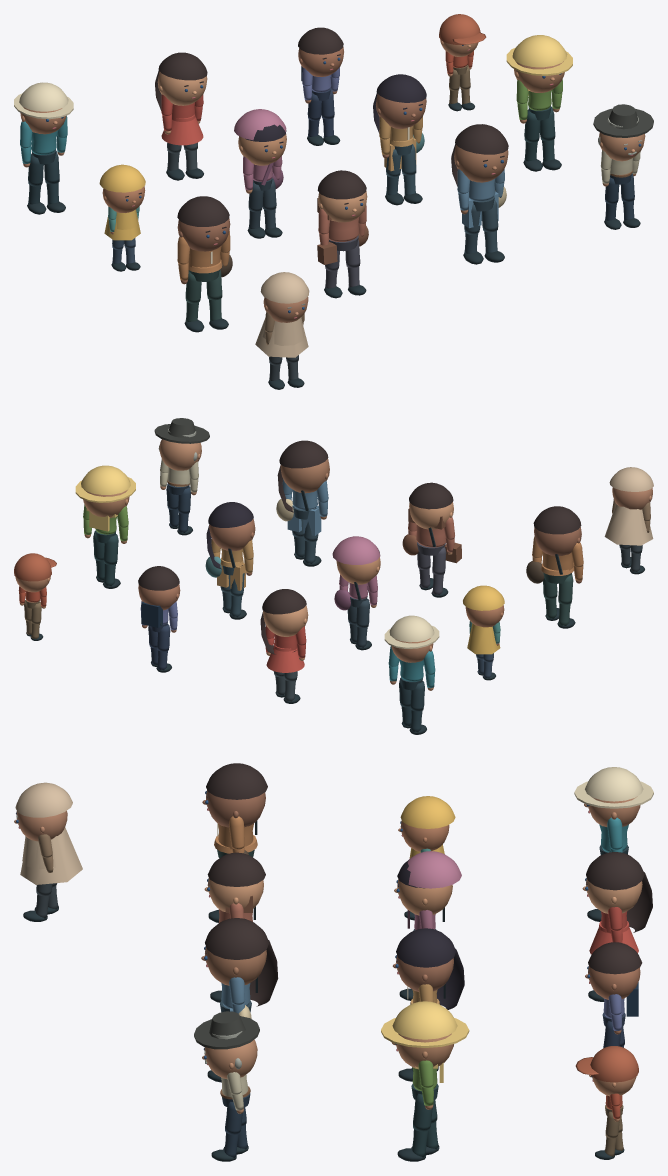
Rendered from people-edit-source.glb.
3 renders of one model, top to bottom at view 1: azimuth 30°, elevation 25°; view 2: azimuth 150°, elevation 25°; view 3: azimuth 270°, elevation 25°, orthographic. The views are drawn at different scales.
Parts seen in each view (by area): view 1: head (×12), sculpted_hair (×6), rain_helmet (×2), poncho_hood (×2), coat_torso (×2), soft_hat_brim, oversized_hood, soft_cap_crown, long_rain_cape, rounded_dress_skirt, rain_poncho, helmet_brim (+1 smaller); view 2: head (×12), sculpted_hair (×6), rain_helmet (×2), long_rain_cape (×2), poncho_hood (×2), oversized_hood, coat_torso (×2), soft_cap_crown, rounded_dress_skirt, soft_hat_brim, helmet_brim, carried_bag; view 3: head (×12), sculpted_hair (×6), rain_helmet (×2), poncho_hood (×2), back_hair (×3), helmet_brim (×2), oversized_hood, long_rain_cape, soft_cap_crown, soft_hat_brim, soft_hat_crown.
Boxes of the visible parts, left/top/right/bottom form: head (×12): left=20, top=47, right=645, bottom=322; sculpted_hair (×6): left=158, top=27, right=508, bottom=226; rain_helmet (×2): left=19, top=35, right=567, bottom=111; poncho_hood (×2): left=99, top=164, right=309, bottom=303; coat_torso (×2): left=31, top=129, right=359, bottom=241; soft_hat_brim: left=593, top=108, right=653, bottom=137; oversized_hood: left=234, top=109, right=286, bottom=140; soft_cap_crown: left=439, top=14, right=480, bottom=44; long_rain_cape: left=255, top=317, right=308, bottom=357; rounded_dress_skirt: left=161, top=116, right=203, bottom=145; rain_poncho: left=262, top=317, right=303, bottom=345; helmet_brim: left=506, top=47, right=572, bottom=75; head (×12): left=83, top=439, right=652, bottom=662; sculpted_hair (×6): left=138, top=440, right=581, bottom=614; rain_helmet (×2): left=81, top=465, right=434, bottom=642; long_rain_cape (×2): left=467, top=504, right=653, bottom=654; poncho_hood (×2): left=463, top=467, right=653, bottom=610; oversized_hood: left=332, top=536, right=380, bottom=564; coat_torso (×2): left=398, top=524, right=445, bottom=681; soft_cap_crown: left=14, top=553, right=51, bottom=581; rounded_dress_skirt: left=266, top=647, right=304, bottom=672; soft_hat_brim: left=154, top=424, right=209, bottom=443; helmet_brim: left=75, top=477, right=135, bottom=502; carried_bag: left=141, top=601, right=162, bottom=627; head (×12): left=16, top=790, right=642, bottom=1079; sculpted_hair (×6): left=205, top=763, right=644, bottom=974; rain_helmet (×2): left=392, top=767, right=643, bottom=1039; poncho_hood (×2): left=15, top=782, right=455, bottom=828; back_hair (×3): left=249, top=871, right=652, bottom=1009; helmet_brim (×2): left=381, top=781, right=653, bottom=1047; oversized_hood: left=407, top=851, right=461, bottom=888; long_rain_cape: left=20, top=827, right=82, bottom=884; soft_cap_crown: left=590, top=1046, right=638, bottom=1082; soft_hat_brim: left=194, top=1016, right=259, bottom=1049; soft_hat_crown: left=209, top=1011, right=245, bottom=1038.
Bounding box in the file's own units: 7.47 × 2.01 × 7.44.
